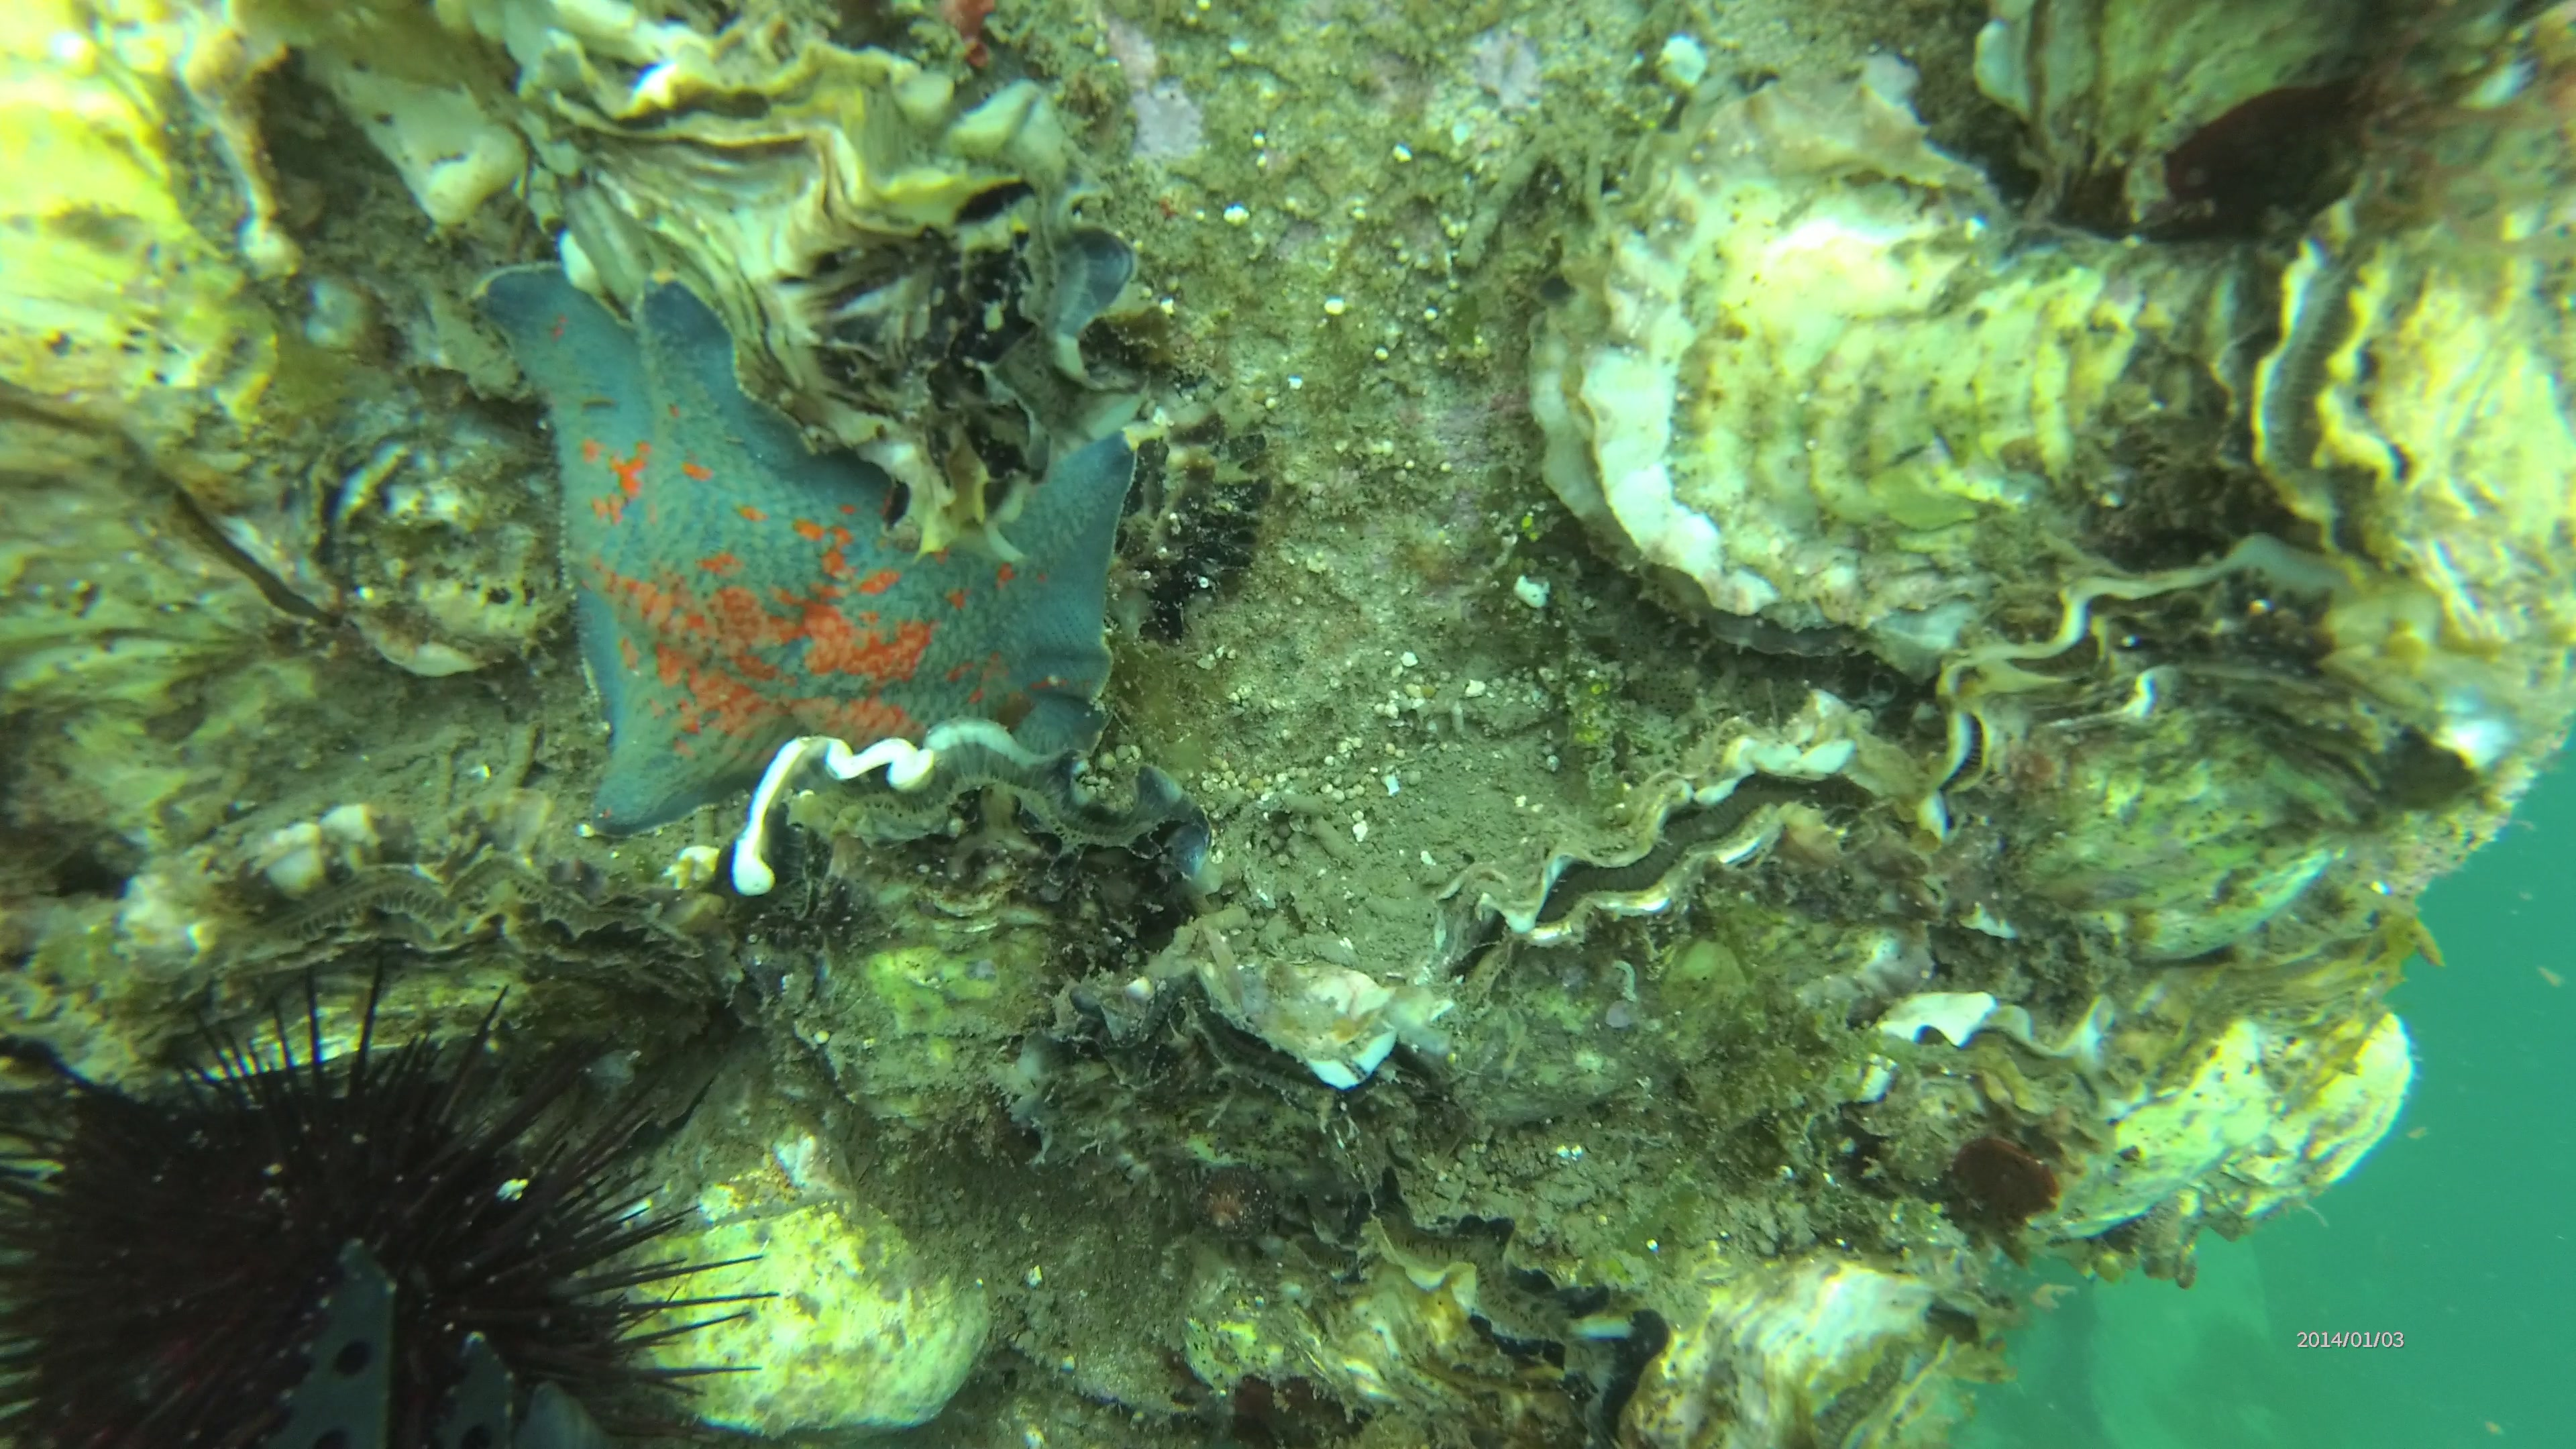echinus: (9, 952, 784, 1449)
starfish: (467, 264, 1145, 840)
